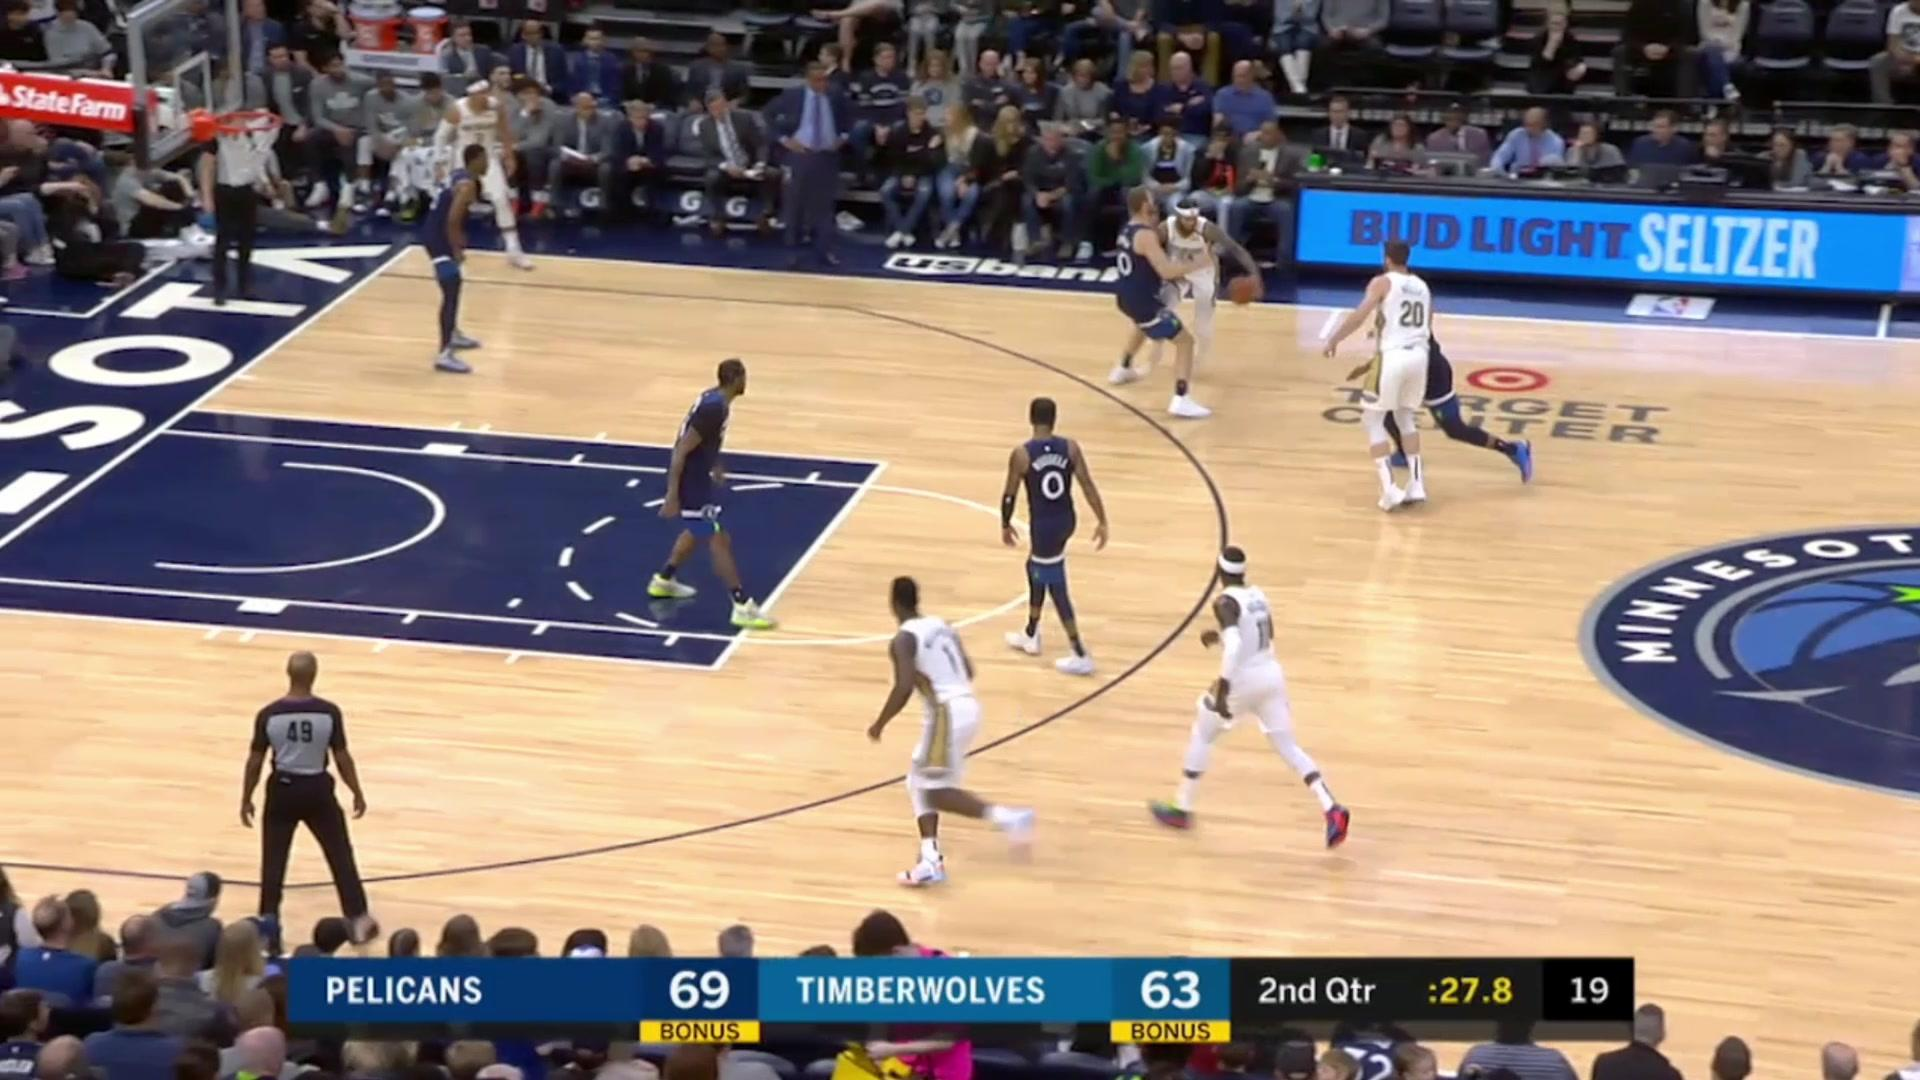no_foul: (1114, 191, 1237, 413)
